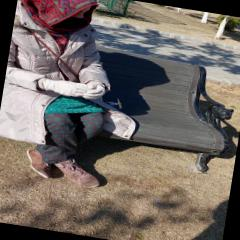gloved: (44, 78, 89, 100), (83, 82, 107, 104)
